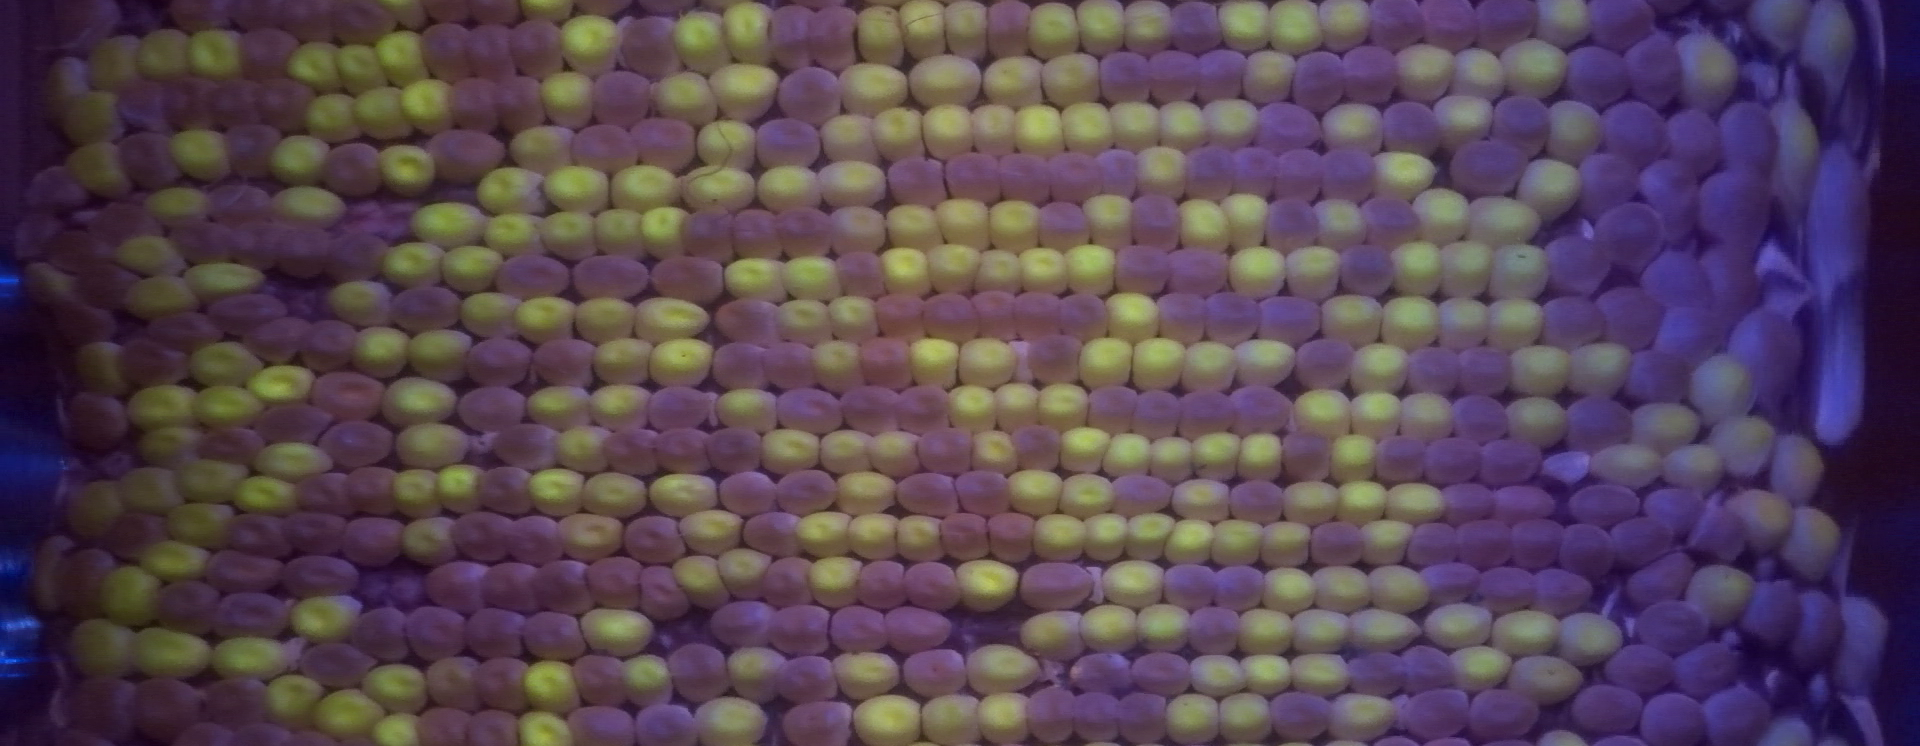fluorescent: (1674, 31, 1735, 107), (1766, 103, 1813, 196), (1516, 154, 1577, 223), (1779, 514, 1842, 578), (1469, 192, 1548, 243), (1684, 566, 1753, 622), (26, 530, 70, 617), (473, 167, 547, 216), (1801, 9, 1855, 76), (539, 163, 609, 214), (103, 565, 163, 624), (136, 627, 204, 679), (584, 605, 654, 654), (1716, 414, 1776, 470), (671, 13, 731, 69), (853, 695, 921, 744), (855, 4, 906, 67), (211, 631, 289, 673), (167, 131, 236, 178), (710, 69, 776, 118), (1696, 354, 1751, 413), (1391, 45, 1451, 99), (1735, 488, 1789, 548), (263, 187, 348, 225), (561, 16, 618, 71), (694, 697, 764, 742), (1507, 344, 1570, 394), (411, 200, 482, 244), (71, 622, 135, 671), (1228, 243, 1283, 299), (1438, 240, 1491, 298), (384, 379, 454, 423), (1771, 436, 1820, 499), (636, 296, 707, 339), (302, 89, 360, 142), (658, 73, 718, 124), (1234, 341, 1296, 390), (758, 164, 820, 212), (912, 61, 980, 105), (1179, 198, 1234, 252), (1573, 345, 1630, 398), (1505, 39, 1562, 91), (648, 342, 713, 387), (818, 163, 887, 206), (1551, 107, 1607, 159), (938, 198, 996, 249), (262, 671, 320, 722), (839, 66, 902, 111), (613, 164, 677, 209), (1332, 692, 1396, 737), (42, 56, 89, 116), (1438, 97, 1498, 145), (378, 147, 438, 195), (1374, 148, 1435, 195), (459, 292, 520, 338), (1269, 1, 1322, 54), (509, 129, 576, 171), (1284, 247, 1340, 299), (960, 333, 1011, 388), (69, 481, 120, 537), (683, 170, 756, 209), (62, 93, 125, 138), (1022, 610, 1085, 655), (186, 28, 242, 78), (730, 643, 786, 693), (724, 258, 787, 303), (1427, 604, 1494, 646), (958, 562, 1018, 609), (144, 183, 209, 225), (1347, 345, 1408, 391), (1391, 243, 1440, 299), (1322, 111, 1389, 153), (1633, 402, 1700, 443), (899, 1, 947, 59), (269, 138, 328, 185), (970, 646, 1040, 685), (316, 692, 383, 733), (542, 212, 602, 257), (585, 475, 645, 521), (1318, 197, 1370, 249), (138, 24, 189, 78), (1495, 612, 1560, 654), (874, 107, 929, 156), (192, 334, 253, 379), (1059, 104, 1116, 152), (1291, 390, 1351, 434), (1104, 562, 1164, 606), (1215, 1, 1267, 51), (1491, 247, 1545, 296), (1418, 194, 1473, 241), (1315, 566, 1370, 614), (694, 124, 756, 167), (409, 330, 470, 372), (822, 114, 880, 158), (291, 597, 358, 636), (830, 655, 896, 695), (1359, 516, 1411, 566), (336, 42, 384, 94), (839, 468, 893, 516), (288, 43, 343, 89), (943, 5, 989, 60), (355, 94, 411, 140), (888, 209, 949, 251), (131, 383, 192, 425), (516, 296, 573, 341), (816, 339, 866, 390), (529, 657, 579, 707), (782, 256, 841, 299), (354, 325, 403, 376), (673, 555, 722, 606), (972, 102, 1020, 154), (1080, 337, 1128, 390), (1349, 612, 1416, 650), (1029, 1, 1075, 55), (598, 337, 651, 383), (1187, 341, 1233, 394), (67, 145, 127, 186), (726, 5, 771, 60), (1189, 435, 1244, 480), (446, 245, 502, 289), (525, 385, 587, 425), (93, 33, 143, 82), (377, 33, 429, 81), (1140, 145, 1188, 196), (1086, 198, 1138, 246), (1329, 298, 1380, 345), (1163, 521, 1215, 568), (1224, 194, 1271, 246), (486, 214, 549, 254), (561, 513, 620, 555), (1138, 338, 1183, 392), (1507, 399, 1561, 445), (1082, 608, 1138, 652), (200, 385, 260, 425), (119, 472, 179, 512), (1589, 453, 1665, 485), (396, 430, 471, 462), (178, 461, 241, 499), (719, 385, 775, 428), (555, 428, 611, 470), (626, 652, 675, 701), (1078, 1, 1125, 51), (384, 244, 442, 285), (924, 107, 970, 159), (1384, 295, 1436, 341), (530, 469, 583, 514), (129, 277, 193, 314), (678, 513, 743, 550), (653, 475, 715, 513), (169, 506, 229, 545), (882, 249, 929, 298), (184, 261, 263, 290), (850, 512, 898, 561), (1490, 299, 1540, 345), (811, 559, 861, 605), (547, 73, 590, 127), (576, 298, 631, 339), (719, 552, 767, 600), (1141, 604, 1189, 652), (1318, 2, 1367, 49), (1168, 693, 1215, 742), (1559, 620, 1619, 658), (1160, 104, 1210, 149), (1070, 246, 1116, 296), (798, 511, 849, 556), (778, 300, 830, 343), (1371, 566, 1424, 609), (1536, 1, 1589, 43), (1009, 472, 1063, 513), (1106, 295, 1161, 336), (643, 208, 691, 255), (909, 337, 955, 385), (1513, 658, 1576, 693), (404, 517, 454, 561), (1018, 109, 1069, 152), (989, 62, 1042, 104), (115, 235, 186, 266), (1239, 435, 1286, 481), (1247, 53, 1292, 100), (1755, 1, 1802, 47), (598, 212, 647, 256), (1296, 610, 1344, 654), (80, 341, 122, 391), (249, 367, 316, 399), (926, 247, 977, 289), (367, 661, 424, 699), (1125, 5, 1171, 51), (1128, 513, 1174, 559), (983, 695, 1029, 741), (1049, 54, 1093, 102), (1441, 298, 1485, 345), (1453, 48, 1502, 91), (1242, 609, 1291, 652), (231, 477, 290, 512), (1111, 104, 1162, 145), (1177, 479, 1228, 519), (949, 383, 996, 428), (989, 206, 1040, 246), (1265, 571, 1315, 611), (257, 452, 339, 477), (516, 709, 572, 745), (1401, 401, 1453, 439), (831, 295, 876, 341), (900, 517, 945, 561), (996, 382, 1037, 430), (767, 430, 816, 470), (1281, 483, 1335, 519), (1033, 514, 1082, 555), (928, 697, 977, 737), (823, 430, 874, 468), (1062, 478, 1113, 516), (1340, 483, 1385, 526), (334, 281, 383, 320), (1205, 105, 1255, 143), (1449, 650, 1506, 684), (1022, 250, 1067, 293), (1356, 394, 1400, 437), (1037, 385, 1085, 424), (1296, 657, 1349, 691), (1215, 521, 1258, 563), (1224, 698, 1269, 740), (1149, 437, 1194, 478), (437, 468, 478, 513), (1389, 488, 1442, 521), (1264, 524, 1308, 565), (407, 85, 446, 130), (396, 470, 433, 517), (1089, 514, 1125, 562), (146, 544, 201, 576), (978, 252, 1018, 295), (593, 390, 647, 420), (1667, 458, 1720, 489), (1335, 439, 1378, 477), (972, 437, 1016, 474), (1060, 430, 1106, 465), (1194, 658, 1240, 692), (1111, 436, 1151, 474), (140, 437, 198, 462), (527, 1, 583, 26), (869, 441, 920, 468), (29, 258, 64, 298), (1245, 657, 1286, 688), (377, 715, 418, 744), (398, 1, 433, 31)
nonfluorescent: (1736, 309, 1802, 412), (1549, 40, 1633, 111), (1596, 197, 1668, 278), (1783, 588, 1847, 679), (1716, 100, 1782, 187), (1704, 171, 1772, 256), (1654, 292, 1741, 356), (1598, 99, 1673, 174), (1449, 138, 1536, 198), (1594, 282, 1665, 354), (1739, 571, 1801, 653), (1461, 686, 1545, 746), (1624, 599, 1712, 655), (1704, 241, 1760, 330), (1637, 165, 1700, 243), (616, 13, 689, 78), (1549, 514, 1622, 578), (306, 367, 387, 425), (572, 251, 658, 305), (1561, 393, 1633, 457), (426, 127, 509, 183), (424, 557, 497, 620), (1573, 153, 1640, 222), (333, 512, 411, 570), (1019, 559, 1100, 614), (1644, 246, 1714, 309), (1548, 228, 1609, 299), (132, 675, 201, 737), (1703, 686, 1774, 746), (70, 680, 143, 737), (535, 555, 601, 619), (1622, 34, 1679, 109), (711, 290, 780, 352), (279, 552, 365, 601), (1600, 642, 1680, 695), (778, 66, 847, 126), (149, 583, 227, 637), (654, 252, 729, 307), (118, 334, 192, 390), (1622, 347, 1691, 407), (208, 292, 291, 341), (629, 119, 707, 171), (69, 390, 132, 453), (571, 648, 634, 712), (520, 611, 589, 670), (1571, 684, 1649, 735), (298, 641, 377, 691), (683, 202, 738, 274), (1667, 109, 1722, 181), (1625, 552, 1697, 608), (422, 18, 482, 85), (1611, 513, 1678, 573), (751, 118, 824, 171), (1253, 295, 1326, 349), (899, 646, 972, 699), (528, 336, 600, 390), (765, 604, 835, 659), (457, 386, 531, 437), (491, 255, 569, 304), (769, 391, 851, 437), (709, 598, 782, 649), (119, 129, 182, 187), (468, 334, 533, 392), (474, 650, 531, 715), (1644, 485, 1709, 543), (1693, 507, 1758, 565), (200, 677, 276, 726), (1587, 1, 1656, 55), (807, 1, 860, 71), (202, 549, 288, 592), (278, 222, 336, 285), (1129, 194, 1187, 257), (355, 603, 413, 666), (403, 601, 467, 659), (1288, 48, 1344, 113), (489, 420, 560, 472), (1404, 685, 1472, 739), (571, 121, 643, 171), (389, 284, 465, 332), (257, 401, 342, 443), (1499, 517, 1567, 570), (594, 69, 655, 127), (620, 514, 689, 566), (1536, 293, 1605, 344), (1356, 195, 1420, 250), (784, 696, 855, 746), (1340, 47, 1398, 107), (773, 465, 841, 517), (827, 600, 888, 658), (1096, 48, 1152, 110), (920, 287, 982, 343), (320, 142, 383, 197), (593, 425, 666, 473), (1231, 383, 1296, 437), (1472, 437, 1537, 491), (1269, 690, 1335, 742), (242, 316, 313, 365), (217, 588, 288, 637), (860, 334, 918, 393), (490, 75, 547, 135), (776, 206, 834, 266), (1646, 688, 1706, 746), (831, 247, 894, 303), (1297, 341, 1359, 396), (1173, 390, 1236, 445), (502, 514, 564, 570), (670, 642, 732, 697), (1674, 638, 1736, 693), (1523, 570, 1593, 619), (888, 601, 953, 654), (1169, 247, 1236, 299), (649, 383, 715, 435), (1131, 646, 1198, 697), (324, 420, 396, 468), (1567, 483, 1642, 528), (997, 152, 1056, 209), (1424, 1, 1480, 61), (1191, 47, 1248, 107), (1131, 383, 1191, 440), (1071, 690, 1131, 746), (1264, 196, 1318, 258), (702, 428, 770, 477), (1362, 1, 1428, 51), (658, 424, 715, 481), (856, 554, 912, 612), (1164, 1, 1224, 56), (589, 552, 644, 612), (1030, 200, 1091, 254), (1422, 432, 1483, 486), (704, 342, 767, 394), (920, 424, 982, 477), (954, 465, 1016, 518), (1184, 601, 1247, 654), (764, 5, 816, 69), (58, 1, 122, 51), (119, 78, 178, 134), (1324, 148, 1379, 207), (478, 465, 536, 521), (245, 29, 305, 83), (842, 382, 902, 436), (1476, 1, 1537, 54), (1487, 483, 1569, 522), (778, 653, 840, 704), (233, 218, 288, 276), (516, 24, 569, 83), (1120, 245, 1179, 299), (944, 153, 1004, 206), (729, 206, 781, 266), (1049, 288, 1109, 341), (1030, 686, 1082, 746), (467, 606, 528, 658), (328, 230, 391, 281), (227, 512, 294, 559), (572, 697, 636, 746), (96, 202, 164, 247), (67, 548, 113, 616), (1389, 102, 1442, 159), (1204, 289, 1258, 347), (1456, 391, 1513, 445), (984, 511, 1042, 565), (1106, 473, 1178, 516), (1149, 49, 1201, 108), (962, 290, 1021, 343), (260, 75, 311, 135), (1342, 245, 1402, 296), (1449, 521, 1509, 572), (283, 510, 343, 561), (165, 77, 220, 132), (1232, 477, 1288, 530), (638, 566, 692, 622), (1011, 288, 1064, 345), (454, 511, 512, 563), (486, 562, 544, 615), (1400, 642, 1452, 699), (1118, 688, 1171, 746), (49, 229, 118, 273), (1160, 292, 1211, 350), (173, 217, 235, 265), (229, 120, 282, 176), (1259, 103, 1322, 149), (468, 24, 519, 82), (742, 513, 807, 559), (1029, 334, 1082, 388), (1277, 432, 1330, 488), (1404, 348, 1462, 398), (1307, 521, 1365, 570), (1419, 559, 1480, 605), (896, 381, 950, 434), (1232, 143, 1283, 198), (1048, 151, 1100, 206), (1404, 518, 1461, 568), (890, 159, 950, 206), (1068, 652, 1133, 695), (339, 1, 400, 47), (211, 76, 264, 127), (148, 312, 217, 353), (764, 339, 816, 393), (429, 657, 480, 710), (939, 512, 994, 562), (77, 263, 140, 307), (291, 474, 358, 516), (1162, 570, 1224, 614), (984, 1, 1032, 59), (1184, 143, 1232, 201), (12, 211, 64, 263), (1462, 347, 1513, 399), (1085, 385, 1136, 437), (1375, 435, 1427, 488), (449, 78, 498, 134), (1096, 147, 1145, 202), (302, 321, 358, 370), (1478, 560, 1527, 614), (105, 512, 160, 560), (909, 556, 959, 608), (1349, 652, 1406, 697), (716, 475, 778, 517), (1275, 147, 1324, 198), (59, 305, 118, 348), (898, 474, 956, 517), (1007, 425, 1060, 472), (764, 555, 811, 609), (1218, 561, 1267, 611), (284, 1, 337, 48), (1441, 479, 1494, 526), (348, 462, 394, 514), (880, 293, 931, 341), (32, 165, 84, 211), (424, 704, 480, 746), (217, 181, 267, 225), (173, 1, 236, 34), (202, 429, 263, 463), (642, 710, 699, 746), (229, 719, 302, 746), (231, 1, 284, 34), (467, 713, 518, 746), (478, 1, 528, 29), (175, 722, 225, 746), (638, 1, 698, 21), (429, 1, 471, 28), (577, 1, 633, 21)
